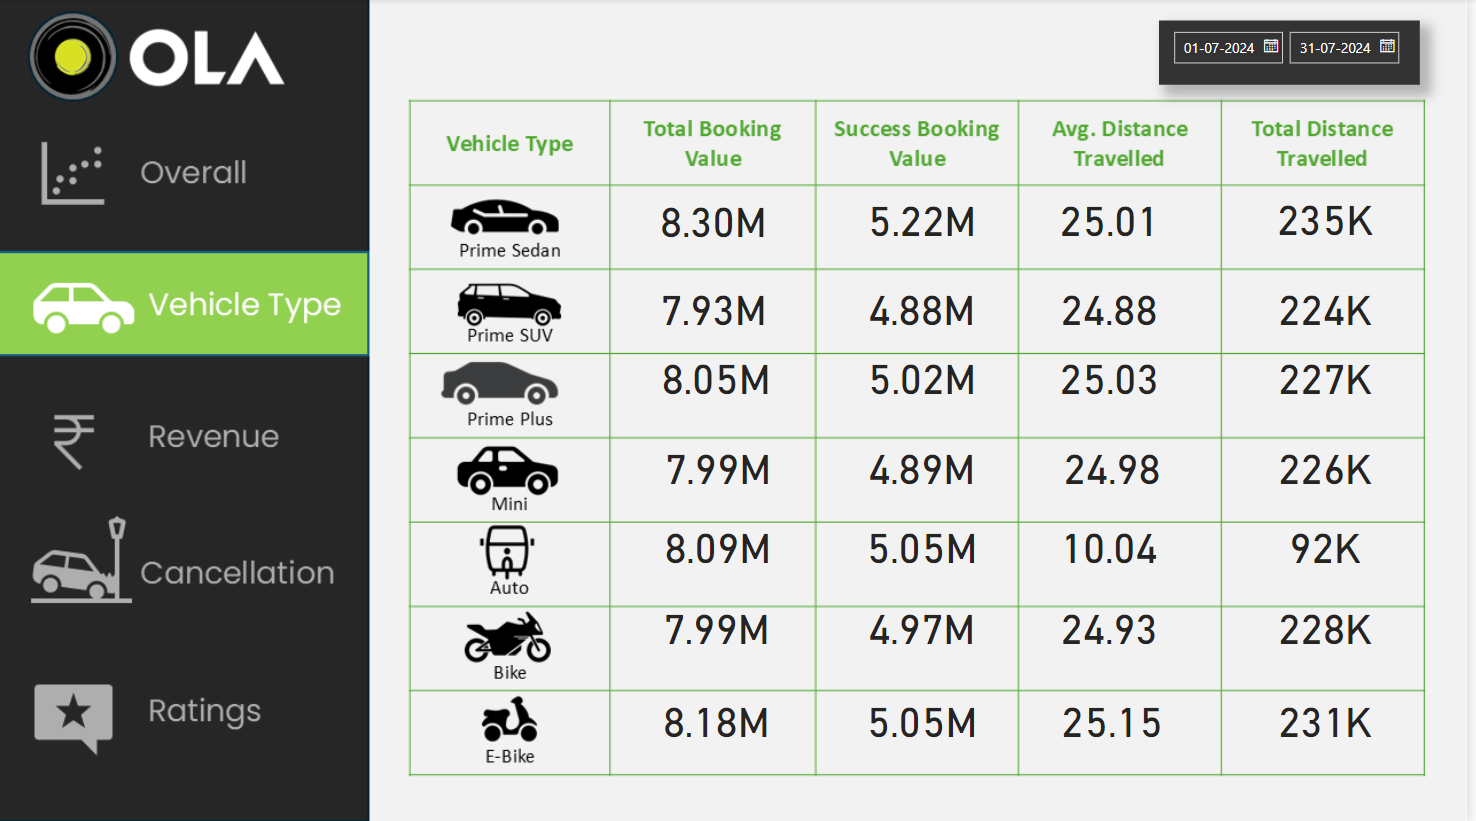

Layout of this report page (visuals, bound fields, positions):
{"tool":"powerbi","page":{"name":"Vehicle Type","canvas":[1280,720],"ordinal":1},"visuals":[{"type":"actionButton","box":[0,220,320.7,87.7],"z":0},{"type":"actionButton","box":[0,339.4,320.7,87.7],"z":1000},{"type":"actionButton","box":[0,444.4,320.7,87.7],"z":2000},{"type":"actionButton","box":[0,579.6,320.7,87.7],"z":3000},{"type":"actionButton","box":[0,106.4,320.7,87.7],"z":4000},{"type":"card","fields":{"Values":["Sum(July.Booking_Value)"]},"box":[541.3,176.5,163.4,52.3],"z":5000},{"type":"card","fields":{"Values":["Sum(July.Booking_Value)"]},"box":[541.5,252.1,163.3,53.7],"z":6000},{"type":"card","fields":{"Values":["Sum(July.Booking_Value)"]},"box":[543.6,312.1,163.3,53.7],"z":7000},{"type":"card","fields":{"Values":["Sum(July.Booking_Value)"]},"box":[545.6,390.6,163.3,53.7],"z":8000},{"type":"card","fields":{"Values":["Sum(July.Booking_Value)"]},"box":[545.6,460.9,163.3,53.7],"z":9000},{"type":"card","fields":{"Values":["Sum(July.Booking_Value)"]},"box":[543.6,531.2,163.3,53.7],"z":10000},{"type":"card","fields":{"Values":["Sum(July.Booking_Value)"]},"box":[543.6,611.8,163.3,53.7],"z":11000},{"type":"card","fields":{"Values":["Sum(July.Booking_Value)"]},"box":[723.4,175.7,163.3,53.7],"z":12000},{"type":"card","fields":{"Values":["Sum(July.Booking_Value)"]},"box":[723.4,252.1,163.3,53.7],"z":13000},{"type":"card","fields":{"Values":["Sum(July.Booking_Value)"]},"box":[723.4,312.1,163.3,53.7],"z":14000},{"type":"card","fields":{"Values":["Sum(July.Booking_Value)"]},"box":[723.4,390.6,163.3,53.7],"z":15000},{"type":"card","fields":{"Values":["Sum(July.Booking_Value)"]},"box":[723.4,460.9,163.3,53.7],"z":16000},{"type":"card","fields":{"Values":["Sum(July.Booking_Value)"]},"box":[723.4,531.2,163.3,53.7],"z":17000},{"type":"card","fields":{"Values":["Sum(July.Booking_Value)"]},"box":[723.4,611.8,163.3,53.7],"z":18000},{"type":"card","fields":{"Values":["Avg(July.Ride_Distance)"]},"box":[886.6,175.7,163.3,53.7],"z":19000},{"type":"card","fields":{"Values":["Avg(July.Ride_Distance)"]},"box":[886.6,252.1,163.3,53.7],"z":20000},{"type":"card","fields":{"Values":["Avg(July.Ride_Distance)"]},"box":[886.6,312.1,163.3,53.7],"z":21000},{"type":"card","fields":{"Values":["Avg(July.Ride_Distance)"]},"box":[888.7,390.6,163.3,53.7],"z":22000},{"type":"card","fields":{"Values":["Avg(July.Ride_Distance)"]},"box":[886.6,460.9,163.3,53.7],"z":23000},{"type":"card","fields":{"Values":["Avg(July.Ride_Distance)"]},"box":[886.6,531.2,163.3,53.7],"z":24000},{"type":"card","fields":{"Values":["Avg(July.Ride_Distance)"]},"box":[888.7,611.8,163.3,53.7],"z":25000},{"type":"card","fields":{"Values":["Sum(July.Ride_Distance)"]},"box":[1074.7,173.6,163.3,53.7],"z":26000},{"type":"card","fields":{"Values":["Sum(July.Ride_Distance)"]},"box":[1074.7,252.1,163.3,53.7],"z":27000},{"type":"card","fields":{"Values":["Sum(July.Ride_Distance)"]},"box":[1074.7,312.1,163.3,53.7],"z":28000},{"type":"card","fields":{"Values":["Sum(July.Ride_Distance)"]},"box":[1074.7,390.6,163.3,53.7],"z":29000},{"type":"card","fields":{"Values":["Sum(July.Ride_Distance)"]},"box":[1074.7,460.9,163.3,53.7],"z":30000},{"type":"card","fields":{"Values":["Sum(July.Ride_Distance)"]},"box":[1074.7,531.2,163.3,53.7],"z":31000},{"type":"card","fields":{"Values":["Sum(July.Ride_Distance)"]},"box":[1074.7,611.8,163.3,53.7],"z":32000},{"type":"slicer","title":"Date","fields":{"Values":["July.Date"]},"box":[1011.4,19.3,227.1,55.7],"z":32001}]}

Visuals, with their boxes on the page's 1280x720 design canvas (x1, y1, x2, y2). These are canvas units, not pixel positions in the 1476x821 screenshot, which may show the page scaled, cropped or inside an application window:
actionButton: x1=0, y1=220, x2=321, y2=308
actionButton: x1=0, y1=339, x2=321, y2=427
actionButton: x1=0, y1=444, x2=321, y2=532
actionButton: x1=0, y1=580, x2=321, y2=667
actionButton: x1=0, y1=106, x2=321, y2=194
card - Sum(July.Booking_Value): x1=541, y1=176, x2=705, y2=229
card - Sum(July.Booking_Value): x1=542, y1=252, x2=705, y2=306
card - Sum(July.Booking_Value): x1=544, y1=312, x2=707, y2=366
card - Sum(July.Booking_Value): x1=546, y1=391, x2=709, y2=444
card - Sum(July.Booking_Value): x1=546, y1=461, x2=709, y2=515
card - Sum(July.Booking_Value): x1=544, y1=531, x2=707, y2=585
card - Sum(July.Booking_Value): x1=544, y1=612, x2=707, y2=666
card - Sum(July.Booking_Value): x1=723, y1=176, x2=887, y2=229
card - Sum(July.Booking_Value): x1=723, y1=252, x2=887, y2=306
card - Sum(July.Booking_Value): x1=723, y1=312, x2=887, y2=366
card - Sum(July.Booking_Value): x1=723, y1=391, x2=887, y2=444
card - Sum(July.Booking_Value): x1=723, y1=461, x2=887, y2=515
card - Sum(July.Booking_Value): x1=723, y1=531, x2=887, y2=585
card - Sum(July.Booking_Value): x1=723, y1=612, x2=887, y2=666
card - Avg(July.Ride_Distance): x1=887, y1=176, x2=1050, y2=229
card - Avg(July.Ride_Distance): x1=887, y1=252, x2=1050, y2=306
card - Avg(July.Ride_Distance): x1=887, y1=312, x2=1050, y2=366
card - Avg(July.Ride_Distance): x1=889, y1=391, x2=1052, y2=444
card - Avg(July.Ride_Distance): x1=887, y1=461, x2=1050, y2=515
card - Avg(July.Ride_Distance): x1=887, y1=531, x2=1050, y2=585
card - Avg(July.Ride_Distance): x1=889, y1=612, x2=1052, y2=666
card - Sum(July.Ride_Distance): x1=1075, y1=174, x2=1238, y2=227
card - Sum(July.Ride_Distance): x1=1075, y1=252, x2=1238, y2=306
card - Sum(July.Ride_Distance): x1=1075, y1=312, x2=1238, y2=366
card - Sum(July.Ride_Distance): x1=1075, y1=391, x2=1238, y2=444
card - Sum(July.Ride_Distance): x1=1075, y1=461, x2=1238, y2=515
card - Sum(July.Ride_Distance): x1=1075, y1=531, x2=1238, y2=585
card - Sum(July.Ride_Distance): x1=1075, y1=612, x2=1238, y2=666
"Date" slicer: x1=1011, y1=19, x2=1238, y2=75
